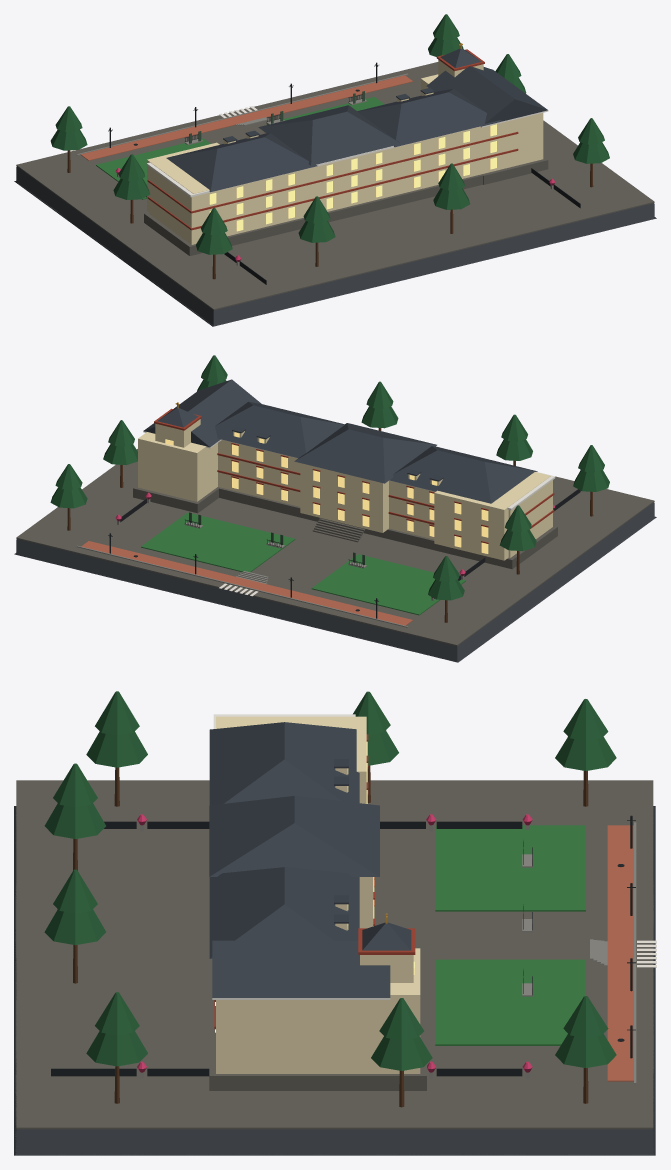
File: lm_33_couvent_des_oiseaux.glb
3 views of the same model, one above another, from view 1: azimuth 30°, elevation 25°; view 2: azimuth 150°, elevation 25°; view 3: azimuth 270°, elevation 25° (orthographic). The views are drawn at different scales.
Parts seen in each view (by area): view 1: Foundation_Plinth_Trim, Couvent_Ochre_Walls, Foundation_Skirt, Couvent_Pine_Canopies, Couvent_Wing_Slate_Roof_West, Couvent_Central_Pavilion_Slate_Roof, Couvent_Wing_Slate_Roof_East, Couvent_Stone_Terrace_And_Base, Couvent_Chapel_Nave_Slate_Roof, Phase2_Interlocking_Brick_Sidewalk, Couvent_Glowing_Windows, Couvent_Red_Brick_Quoins_And_Bands (+6 smaller); view 2: Foundation_Plinth_Trim, Couvent_Ochre_Walls, Foundation_Skirt, Couvent_Garden_Lawns, Couvent_Pine_Canopies, Couvent_Central_Pavilion_Slate_Roof, Couvent_Stone_Terrace_And_Base, Couvent_Wing_Slate_Roof_West, Couvent_Wing_Slate_Roof_East, Phase2_Interlocking_Brick_Sidewalk, Couvent_Chapel_Nave_Slate_Roof, Couvent_Glowing_Windows (+4 smaller); view 3: Foundation_Plinth_Trim, Couvent_Garden_Lawns, Couvent_Pine_Canopies, Foundation_Skirt, Couvent_Ochre_Walls, Couvent_Central_Pavilion_Slate_Roof, Couvent_Wing_Slate_Roof_West, Couvent_Wing_Slate_Roof_East, Couvent_Chapel_Nave_Slate_Roof, Phase2_Interlocking_Brick_Sidewalk, Couvent_Stone_Terrace_And_Base, Phase2_WroughtIron_Balconies_Railings_Manholes (+4 smaller).
Boxes of the visible parts, box(x1,y1,x2,y2) form: Foundation_Plinth_Trim: box(16, 62, 654, 310); Couvent_Ochre_Walls: box(147, 60, 543, 244); Foundation_Skirt: box(14, 166, 656, 326); Couvent_Pine_Canopies: box(50, 14, 609, 254); Couvent_Wing_Slate_Roof_West: box(166, 133, 317, 192); Couvent_Central_Pavilion_Slate_Roof: box(258, 105, 401, 165); Couvent_Wing_Slate_Roof_East: box(357, 88, 501, 147); Couvent_Stone_Terrace_And_Base: box(144, 157, 548, 255); Couvent_Chapel_Nave_Slate_Roof: box(426, 66, 547, 126); Phase2_Interlocking_Brick_Sidewalk: box(80, 75, 412, 160); Couvent_Glowing_Windows: box(209, 124, 496, 231); Couvent_Red_Brick_Quoins_And_Bands: box(147, 49, 518, 230); Foundation_Plinth_Trim: box(16, 449, 654, 645); Couvent_Ochre_Walls: box(138, 419, 552, 560); Foundation_Skirt: box(14, 502, 656, 662); Couvent_Garden_Lawns: box(141, 512, 465, 615); Couvent_Pine_Canopies: box(50, 355, 609, 600); Couvent_Central_Pavilion_Slate_Roof: box(294, 423, 436, 483); Couvent_Stone_Terrace_And_Base: box(133, 485, 557, 569); Couvent_Wing_Slate_Roof_West: box(389, 446, 537, 503); Couvent_Wing_Slate_Roof_East: box(215, 401, 344, 458); Phase2_Interlocking_Brick_Sidewalk: box(81, 541, 412, 625); Couvent_Chapel_Nave_Slate_Roof: box(143, 379, 261, 446); Couvent_Glowing_Windows: box(165, 432, 488, 553); Foundation_Plinth_Trim: box(16, 780, 653, 1129); Couvent_Garden_Lawns: box(435, 825, 585, 1045); Couvent_Pine_Canopies: box(44, 691, 616, 1070); Foundation_Skirt: box(14, 806, 655, 1155); Couvent_Ochre_Walls: box(216, 716, 420, 1073); Couvent_Central_Pavilion_Slate_Roof: box(209, 796, 379, 876); Couvent_Wing_Slate_Roof_West: box(209, 722, 359, 805); Couvent_Wing_Slate_Roof_East: box(209, 867, 359, 958); Couvent_Chapel_Nave_Slate_Roof: box(212, 940, 390, 997); Phase2_Interlocking_Brick_Sidewalk: box(607, 825, 633, 1081); Couvent_Stone_Terrace_And_Base: box(209, 912, 426, 1090); Phase2_WroughtIron_Balconies_Railings_Manholes: box(51, 815, 635, 1076).
Size of the model in its own units: 98.89 by 23.5 by 76.84.
